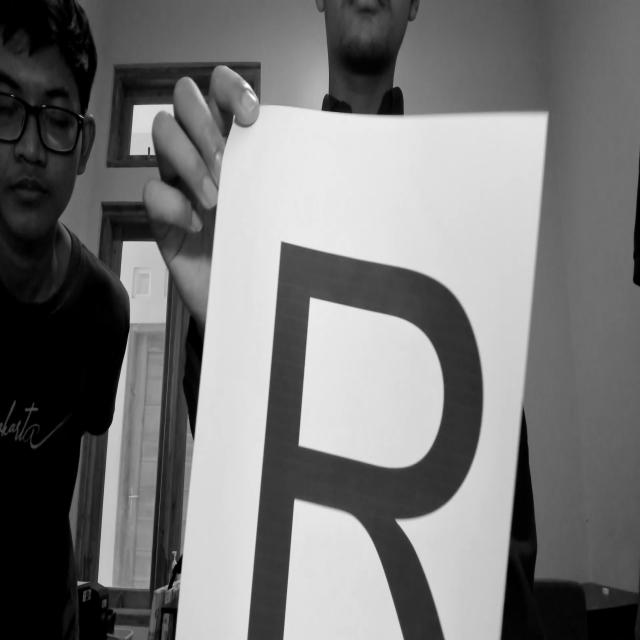r: (238, 216, 492, 640)
